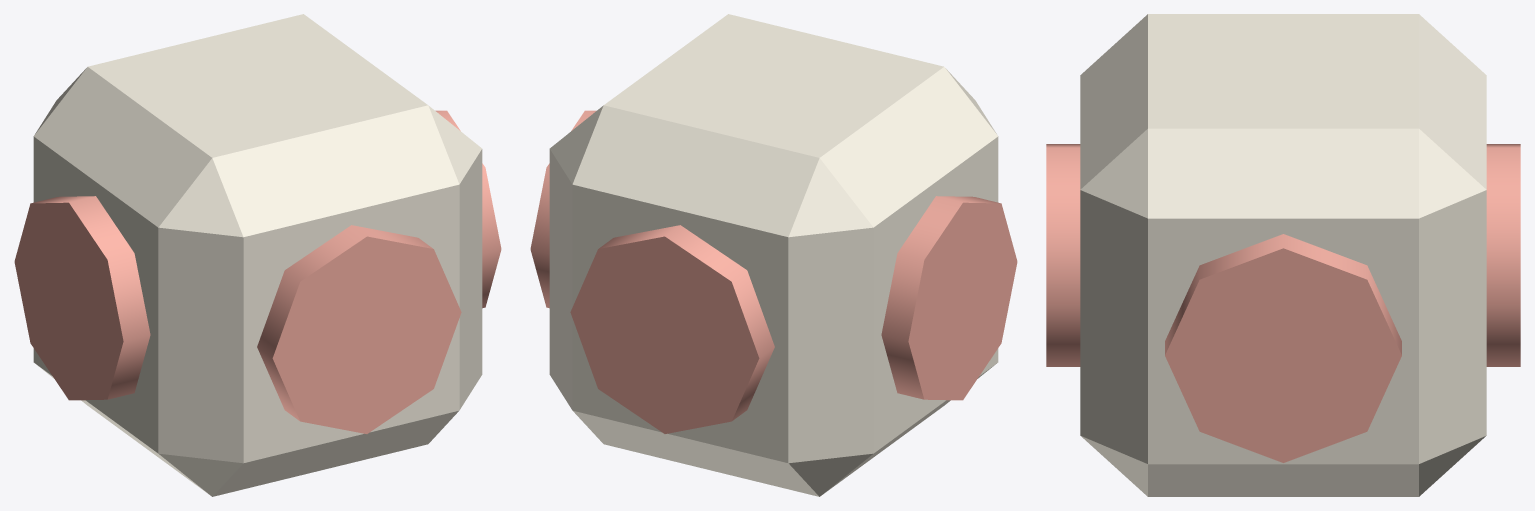
The model's file is ic_item_part.glb.
3 views of the same model, side by side, from view 1: azimuth 30°, elevation 25°; view 2: azimuth 150°, elevation 25°; view 3: azimuth 270°, elevation 25° (orthographic). The views are drawn at different scales.
Parts seen in each view (by area): view 1: ic_item_part; view 2: ic_item_part; view 3: ic_item_part.
Part boxes in pixels (x1,y1,x2,y2): ic_item_part: (14,14,501,496); ic_item_part: (530,14,1017,496); ic_item_part: (1046,14,1520,496).
Bounding box in the file's own units: 0.28 × 0.24 × 0.28.
